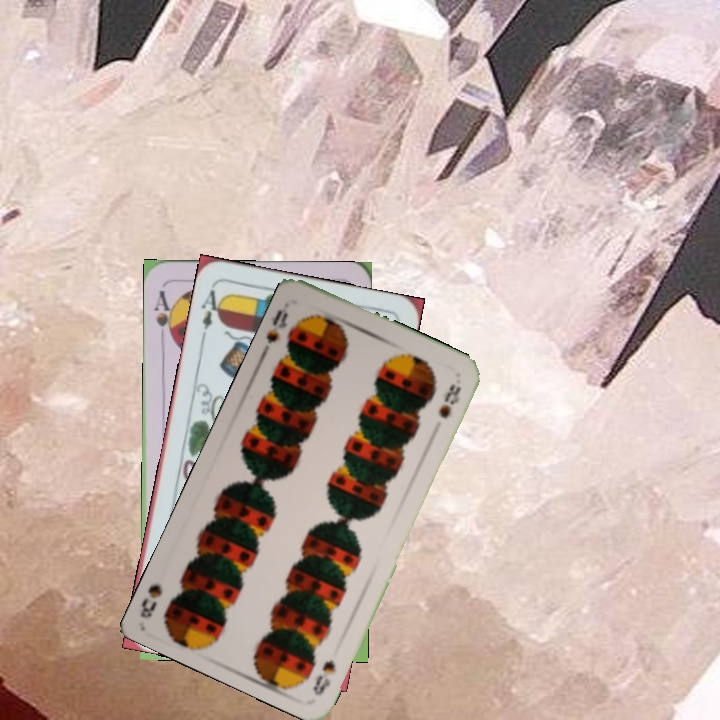EA: (197, 282, 227, 341)
S8: (261, 302, 291, 346), (308, 656, 339, 698)
SA: (150, 287, 177, 344)
